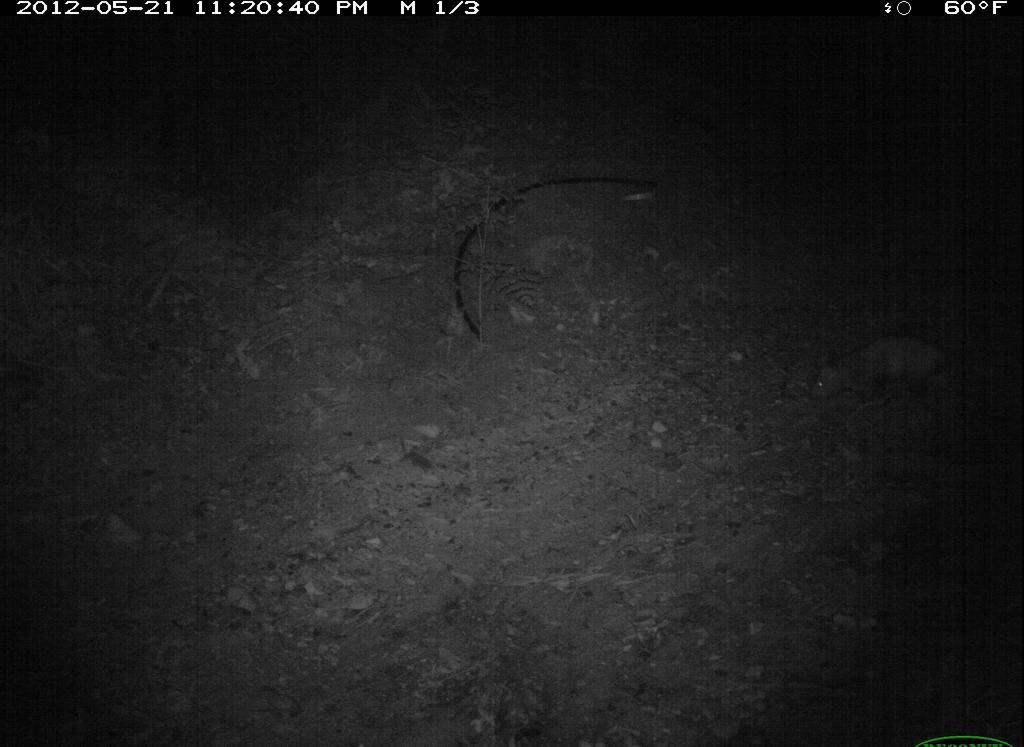opossum: (799, 321, 980, 412)
